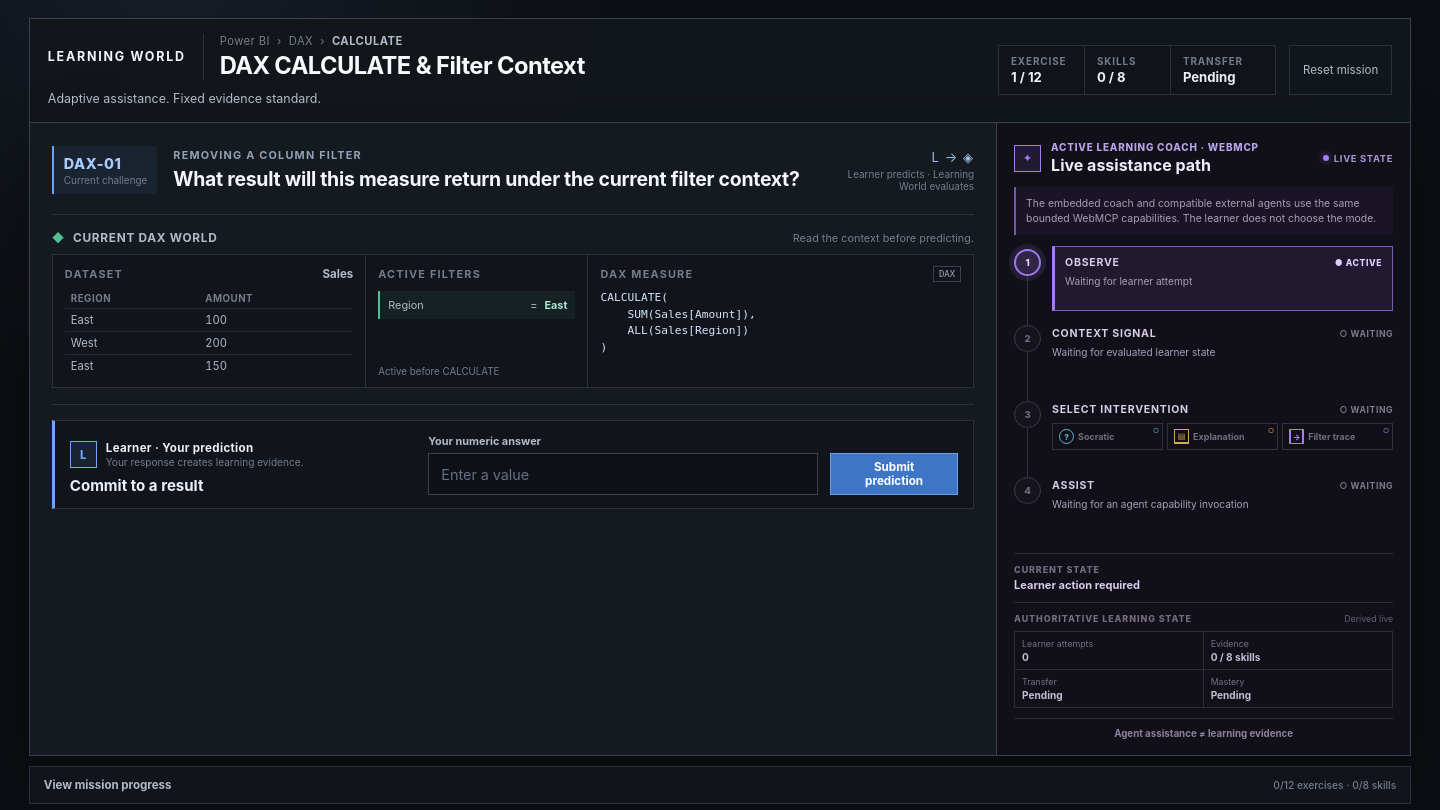
Scenario: DAX learner attempt flow › keeps previous exercise attempts visible after advancement
Type "450" into the number field labelled "Your numeric answer" at (623, 474), box [428,453,818,495]
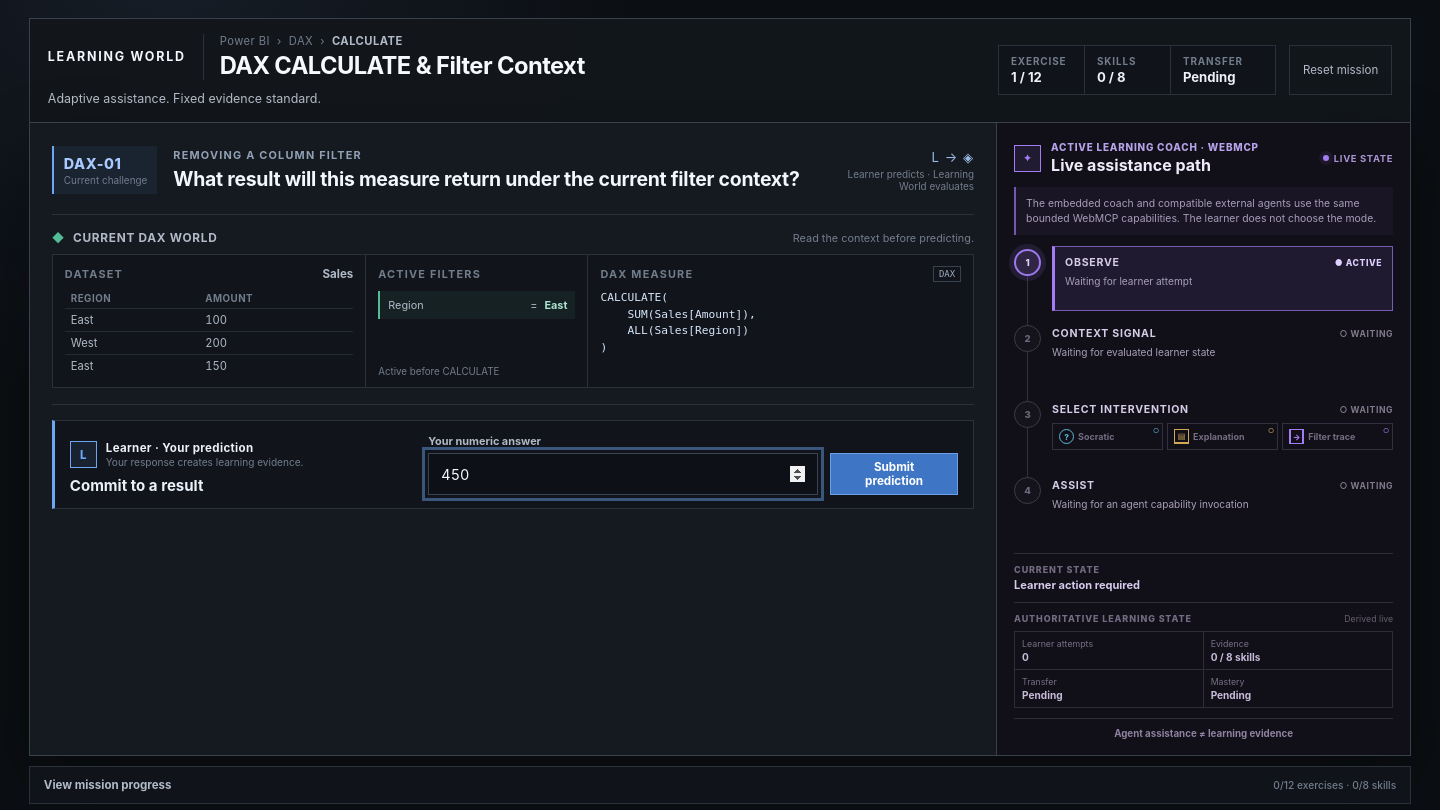
Click the button "Submit prediction" at (894, 474), box [830,453,958,495]
(page scrolled)
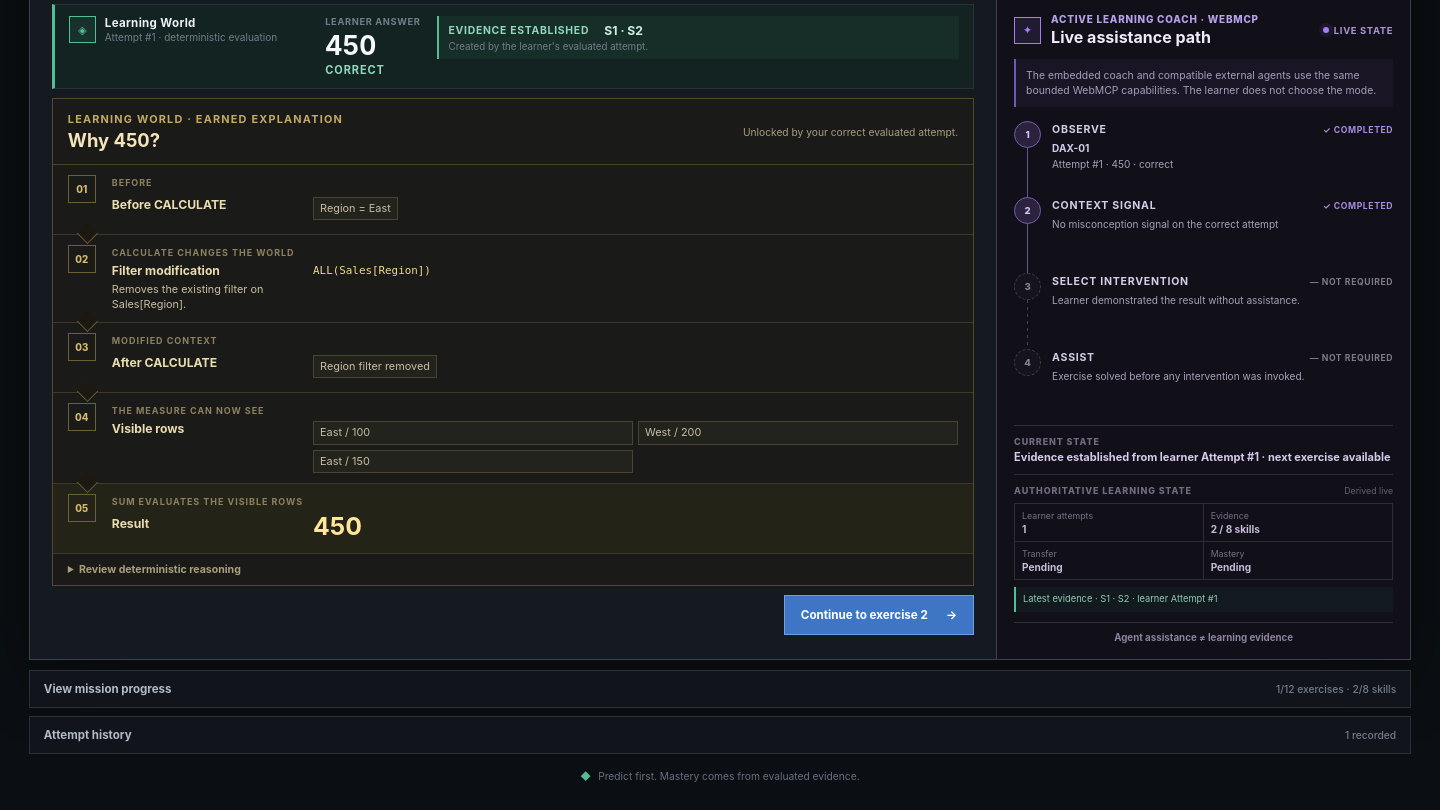
Click the button "Continue to exercise 2 →" at (879, 615), box [784,595,974,635]
(page scrolled)
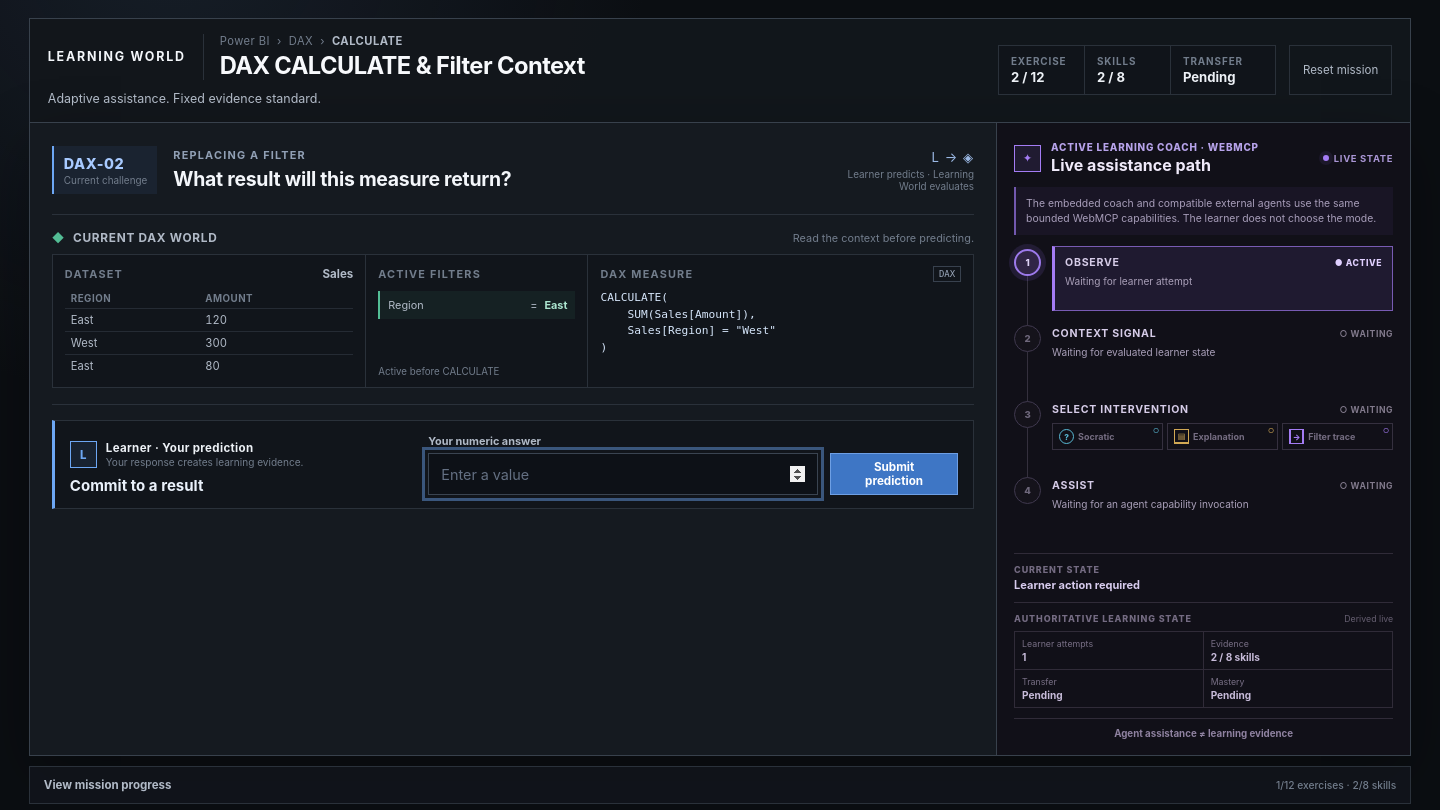
Check: the text "DAX-02" is shown, box [64,154,124,172]
